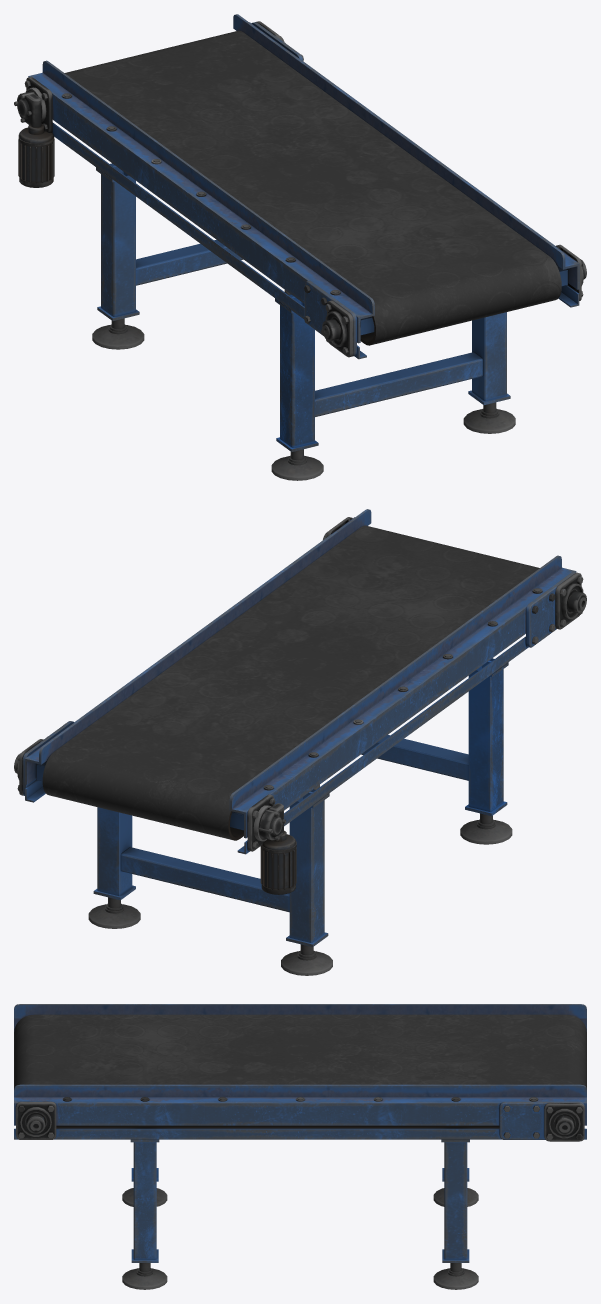
File: conveyor.obj
3 renders of one model, top to bottom at view 1: azimuth 30°, elevation 25°; view 2: azimuth 150°, elevation 25°; view 3: azimuth 270°, elevation 25°, orthographic. The views are drawn at different scales.
Visible parts, largest first — view 1: Conveyor01Belt, Conveyor01Frame01, Conveyor01Legs, Conveyor01Frame02; view 2: Conveyor01Belt, Conveyor01Frame01, Conveyor01Legs, Conveyor01Frame02; view 3: Conveyor01Belt, Conveyor01Frame02, Conveyor01Legs, Conveyor01Frame01, Conveyor01Frame.
Part boxes in pixels (<box>): Conveyor01Belt: <box>65,30,561,344</box>; Conveyor01Frame01: <box>14,60,374,359</box>; Conveyor01Legs: <box>92,163,515,480</box>; Conveyor01Frame02: <box>233,14,586,307</box>; Conveyor01Belt: <box>42,525,539,840</box>; Conveyor01Frame01: <box>229,555,586,894</box>; Conveyor01Legs: <box>88,658,512,975</box>; Conveyor01Frame02: <box>14,509,371,802</box>; Conveyor01Belt: <box>14,1014,586,1089</box>; Conveyor01Frame02: <box>14,1084,586,1141</box>; Conveyor01Legs: <box>122,1139,478,1289</box>; Conveyor01Frame01: <box>14,1004,586,1031</box>; Conveyor01Frame: <box>56,1125,499,1128</box>.
Bounding box in the file's own units: 0.9422 × 0.7494 × 2.
2 materials, 2 textured.
